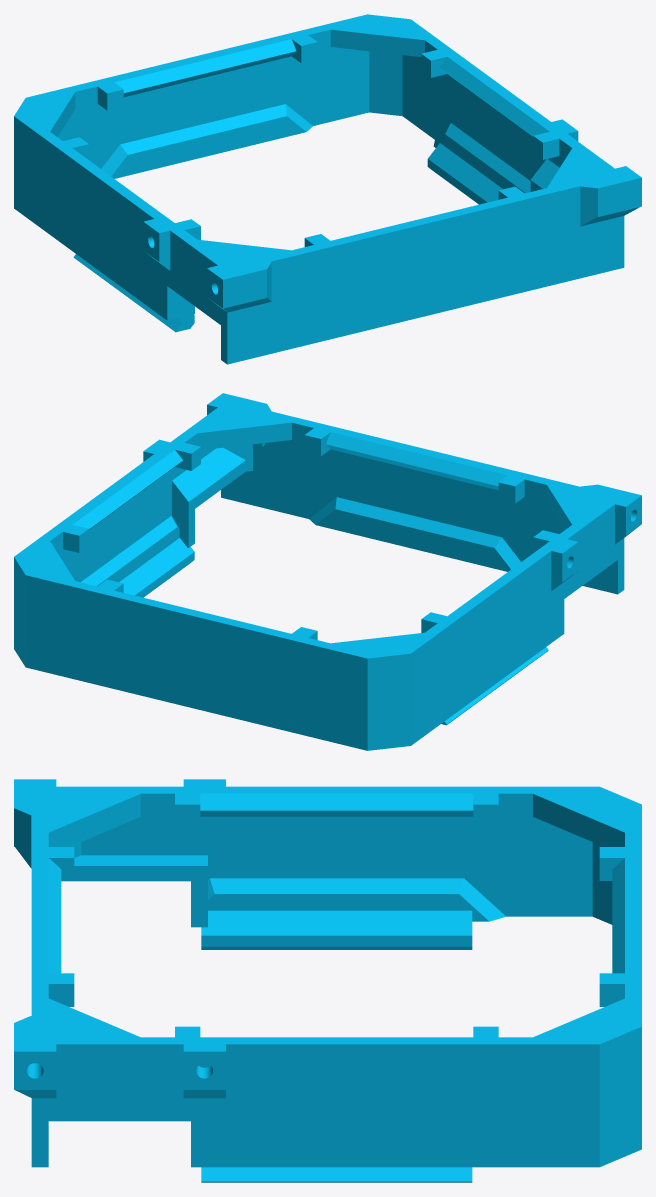
The model's file is middle_spacer_sensors_v2.glb.
3 renders of one model, top to bottom at view 1: azimuth 30°, elevation 25°; view 2: azimuth 150°, elevation 25°; view 3: azimuth 270°, elevation 25°, orthographic. The views are drawn at different scales.
Visible parts, largest first — view 1: Node1; view 2: Node1; view 3: Node1.
Part boxes in pixels (x1,y1,x2,y2): Node1: [14, 14, 641, 364]; Node1: [14, 393, 641, 750]; Node1: [14, 779, 641, 1182].
Size of the model in its own units: 76 by 19 by 74.1.
